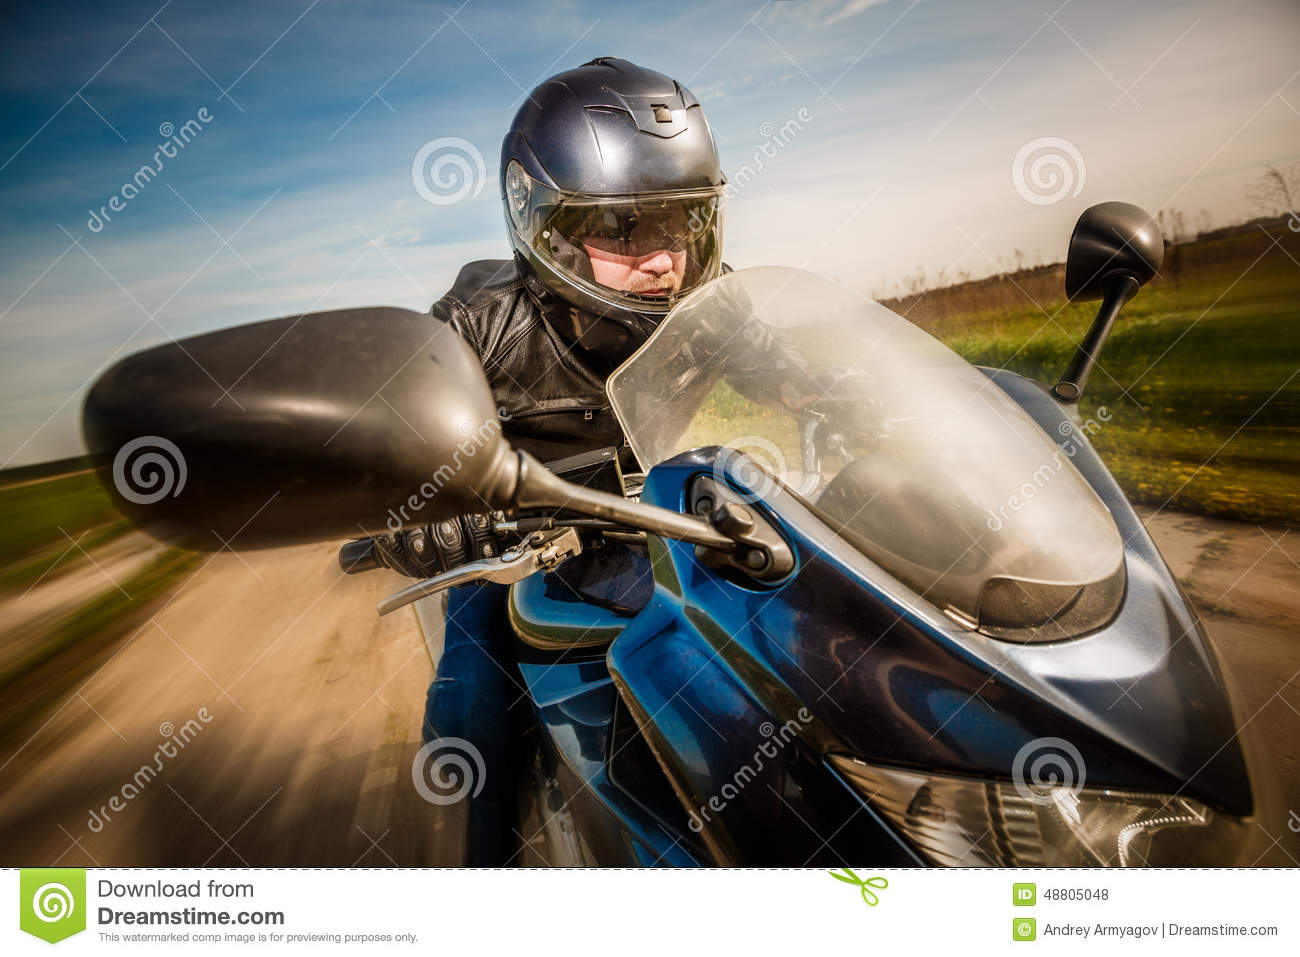helmet: (489, 51, 746, 331)
